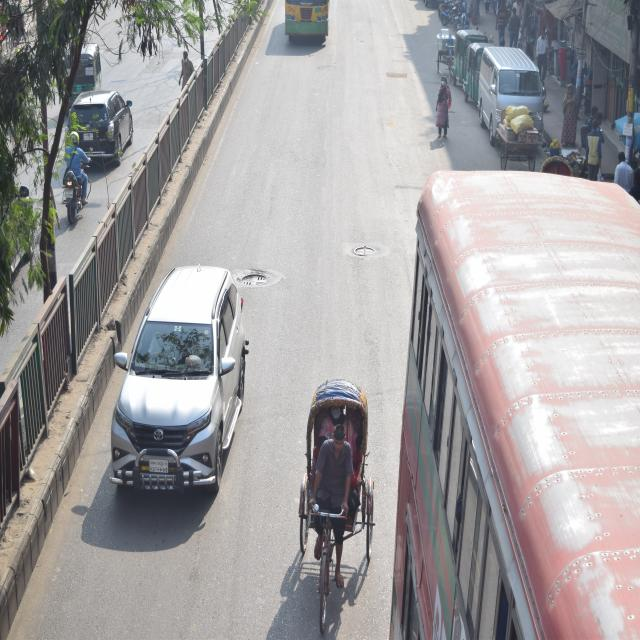bus: (385, 161, 640, 640), (278, 0, 336, 63)
car: (103, 256, 257, 495), (67, 81, 141, 155)
microbus: (474, 38, 544, 152)
motorbike: (54, 145, 94, 232)
